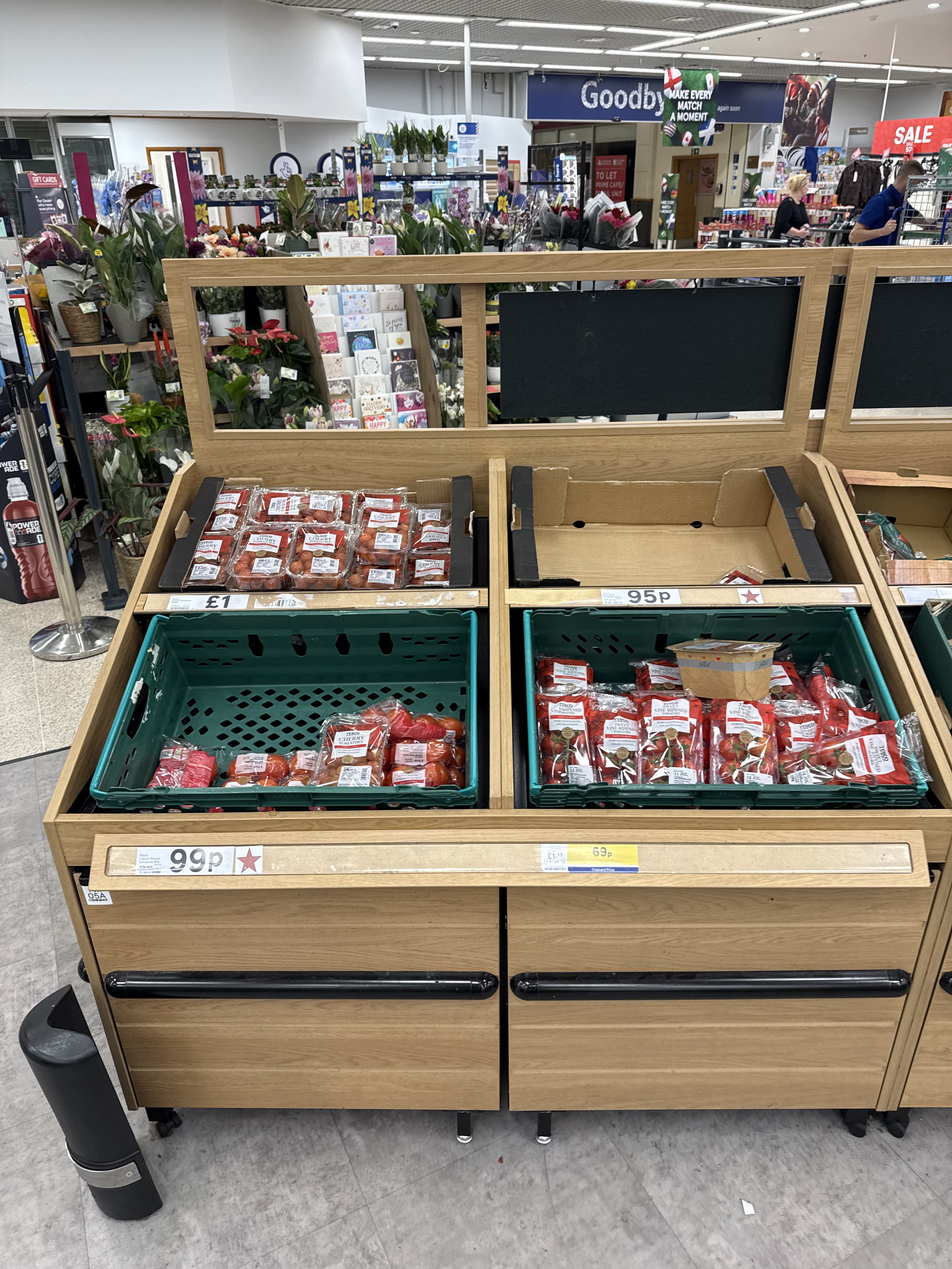large: (135, 846, 235, 875)
medium: (601, 589, 681, 605), (166, 595, 249, 610)
small: (541, 844, 638, 872)
